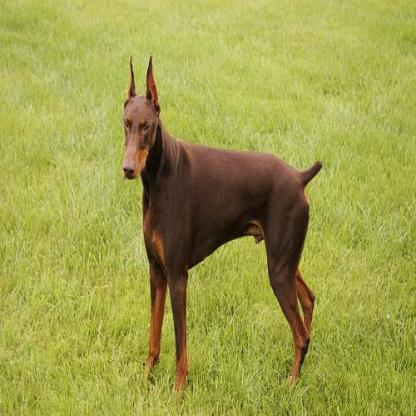Doberman: (119, 52, 322, 401)
